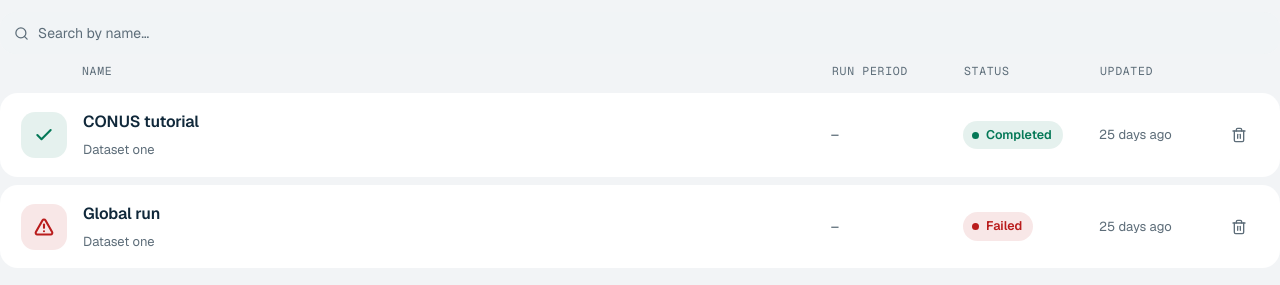
the list's search › filters the loaded rows by name as you type, in any case
The width and height of the screenshot is (1280, 285).
expect the number of list items is 2: met, box [0, 93, 1279, 177]; [0, 185, 1279, 268]
In the search field named "Search snapshot drafts by name": (652, 33) [38, 12, 1266, 54], type "conus"
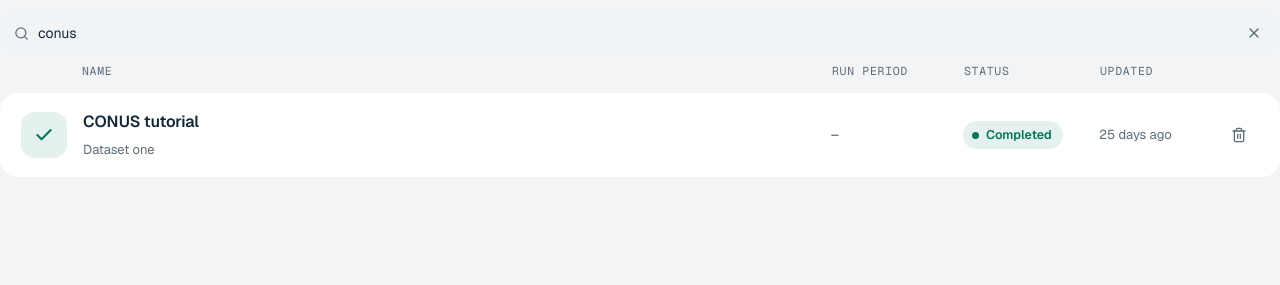
Clear the search field named "Search snapshot drafts by name": (632, 33) [38, 12, 1225, 54]
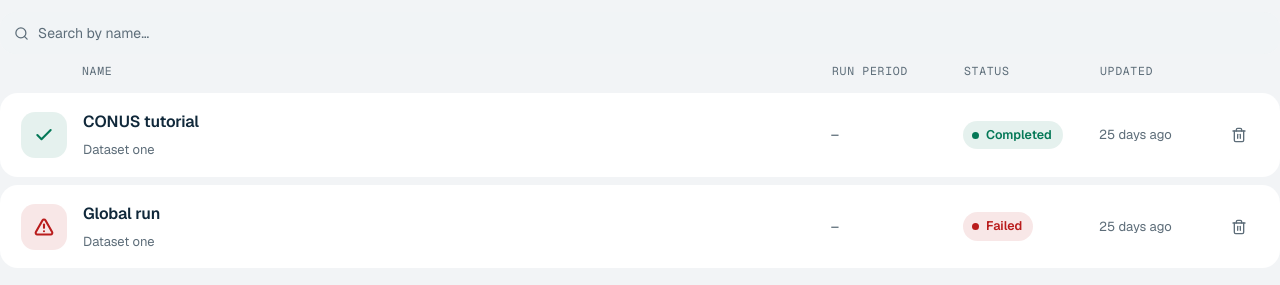
expect the number of list items is 2: met, box [0, 93, 1279, 177]; [0, 185, 1279, 268]
